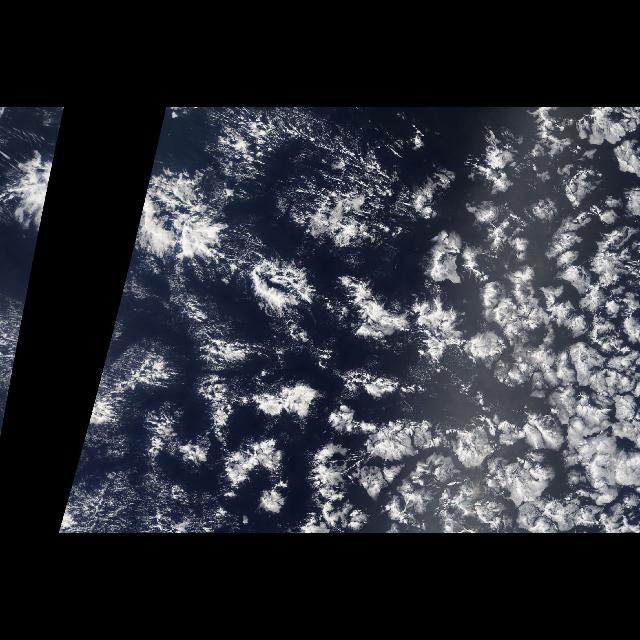Flower: (136, 169, 640, 533)
Sugar: (113, 142, 520, 512)
